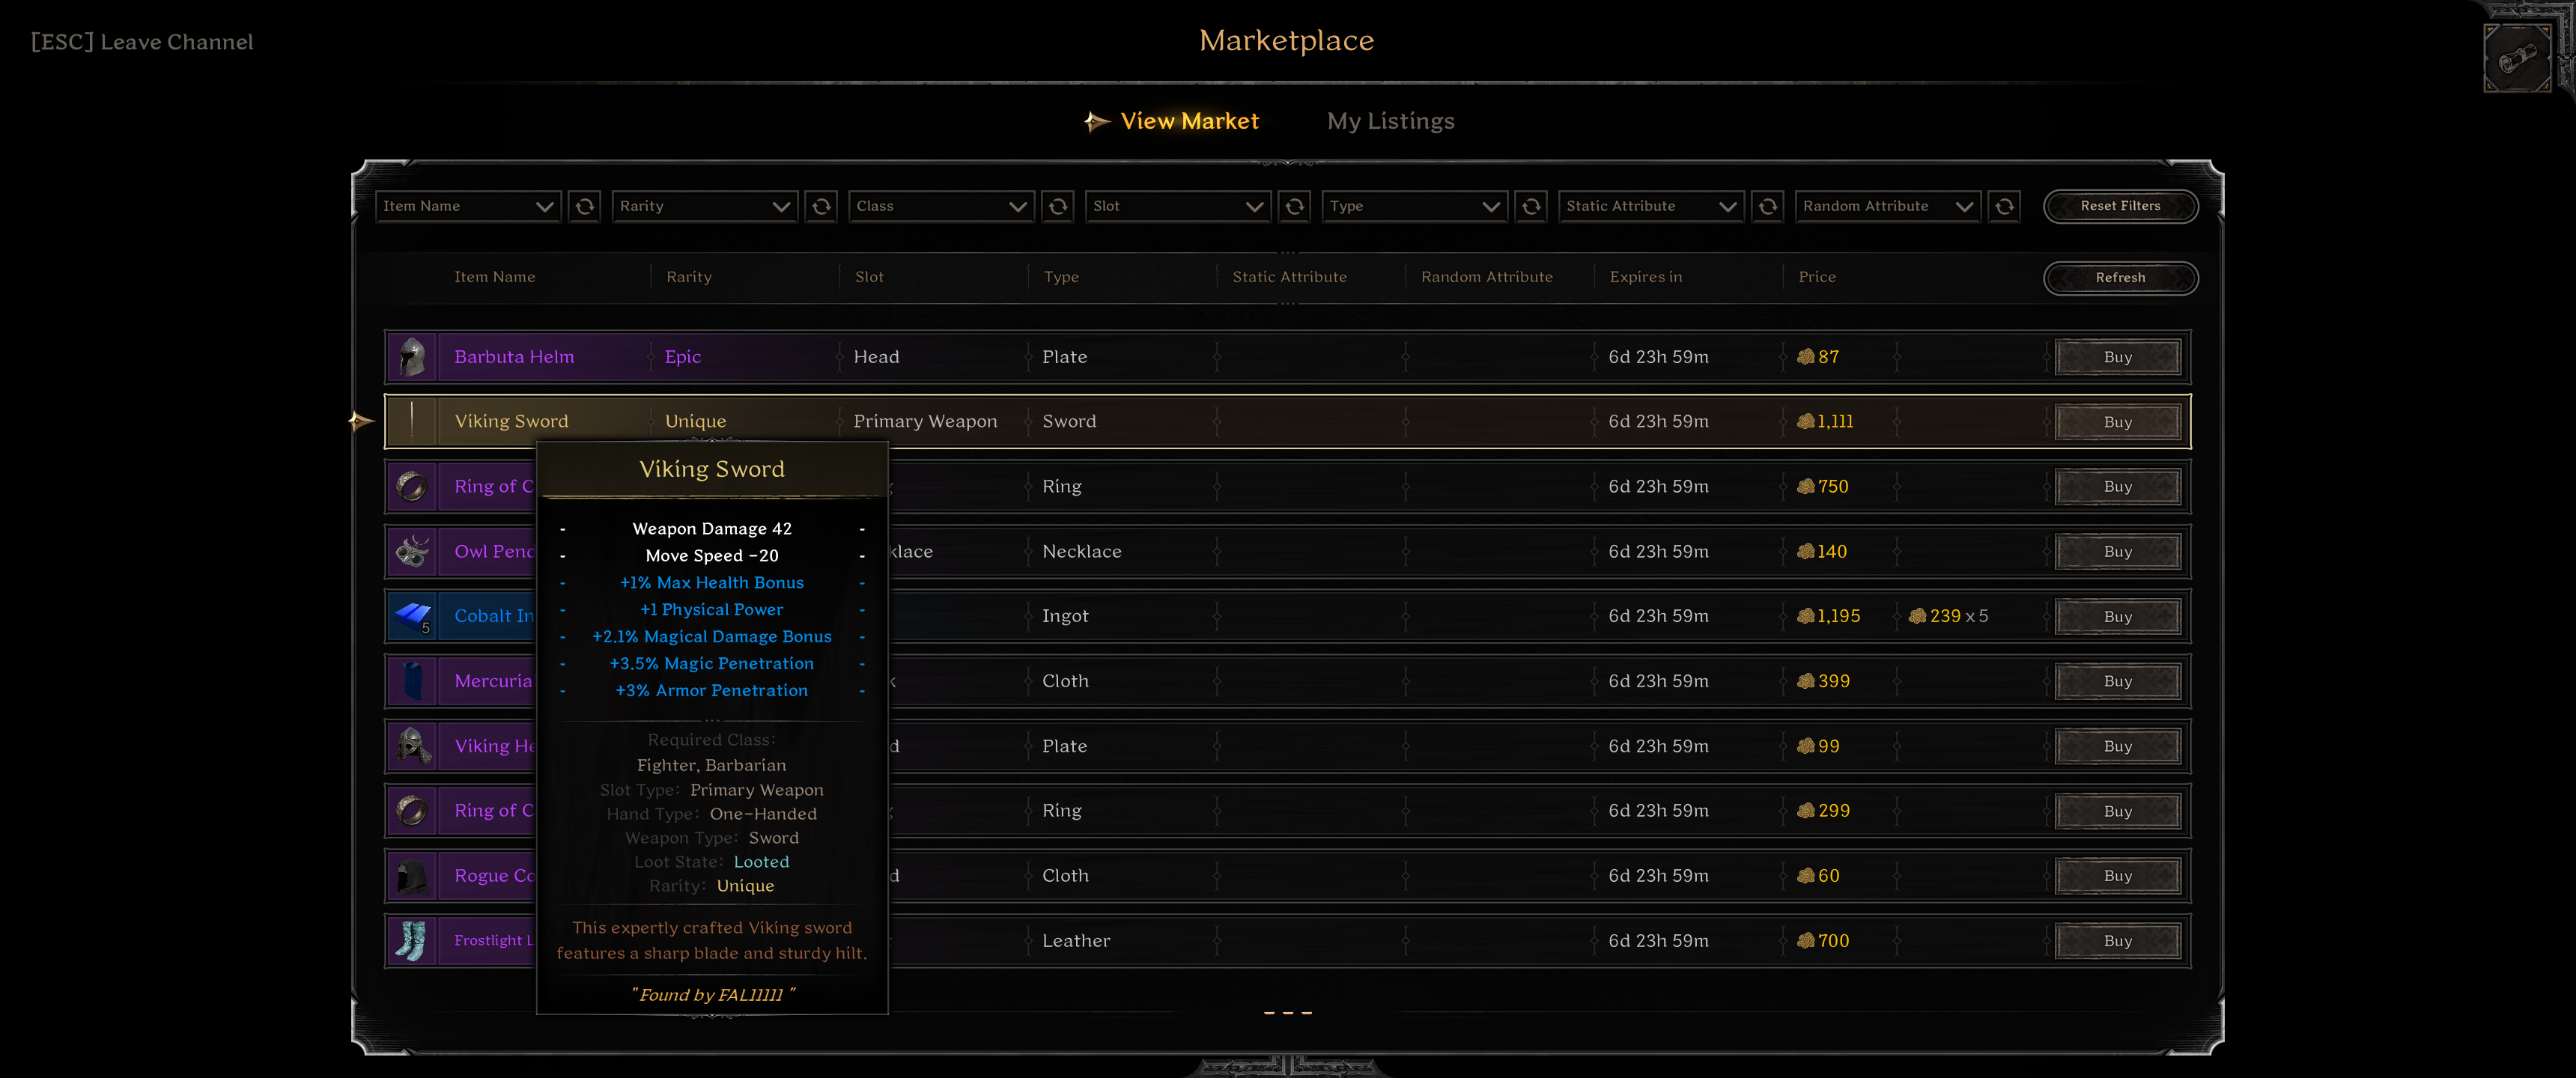Tooltip: (534, 439, 890, 1017)
